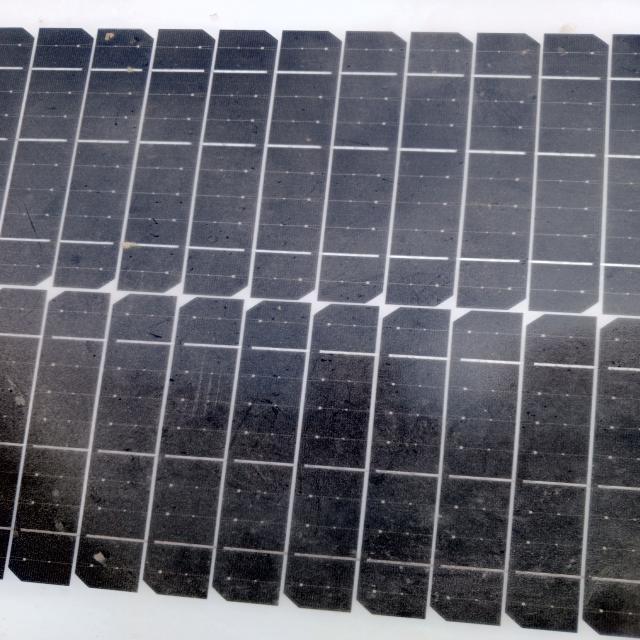Surface Contaminant: (10, 17, 624, 585)
